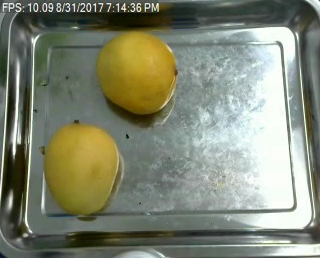Mango: (94, 29, 180, 118), (40, 122, 121, 216)
